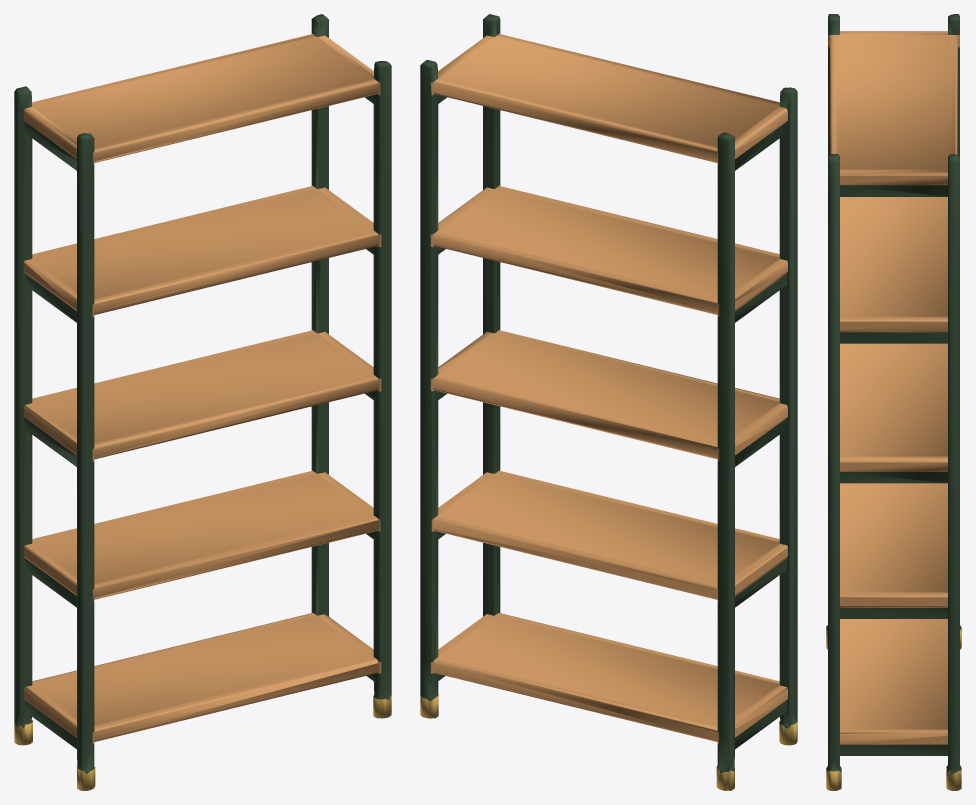
Rendered from GJH_NEW_shelf_display.glb.
The picture shows the model from 3 angles, left to right: view 1: azimuth 30°, elevation 25°; view 2: azimuth 150°, elevation 25°; view 3: azimuth 270°, elevation 25°; orthographic projection. The views are drawn at different scales.
Visible parts, largest first — view 1: GJH_NEW_shelf_display; view 2: GJH_NEW_shelf_display; view 3: GJH_NEW_shelf_display.
Part boxes in pixels (box(x1,y1,x2,y2)): GJH_NEW_shelf_display: box(14, 14, 391, 790); GJH_NEW_shelf_display: box(420, 14, 797, 790); GJH_NEW_shelf_display: box(826, 14, 961, 790).
Bounding box in the file's own units: 0.9 × 1.8 × 0.35.
